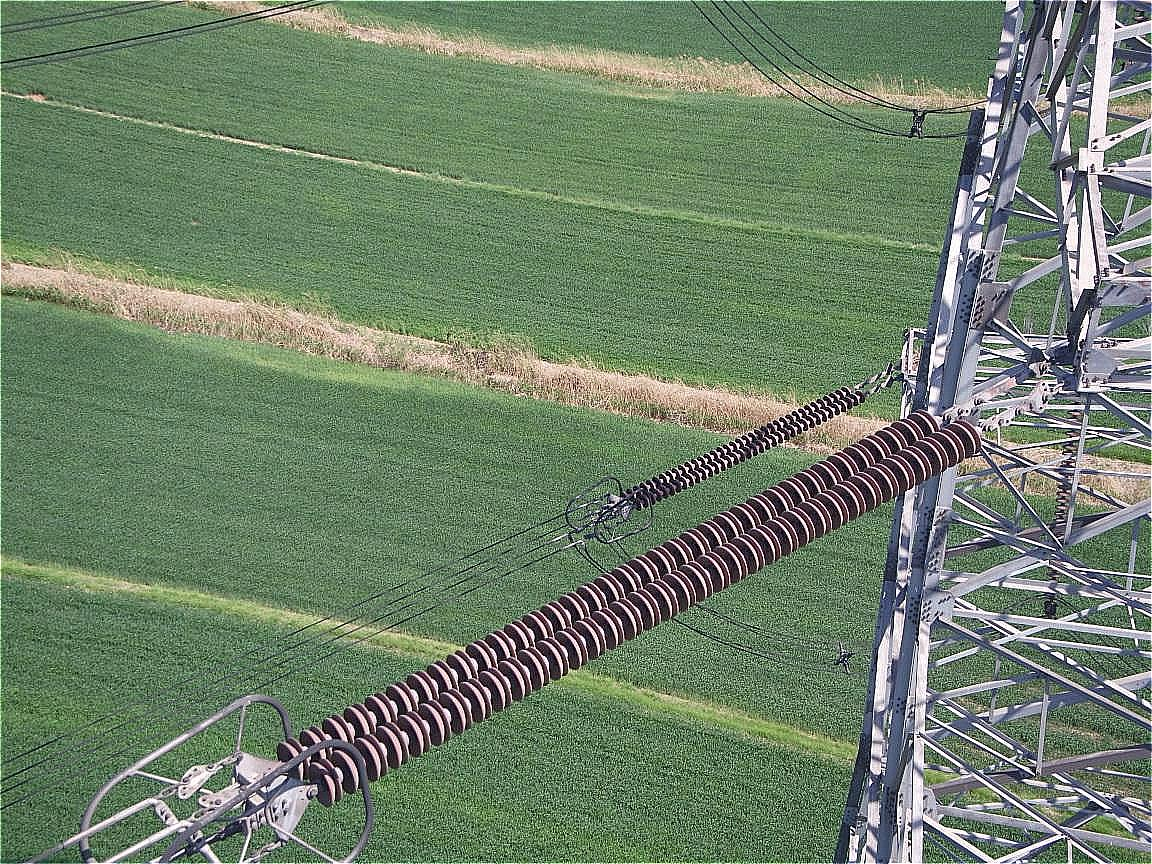insultor1: (610, 374, 878, 522)
insultor2: (245, 407, 1015, 811)
